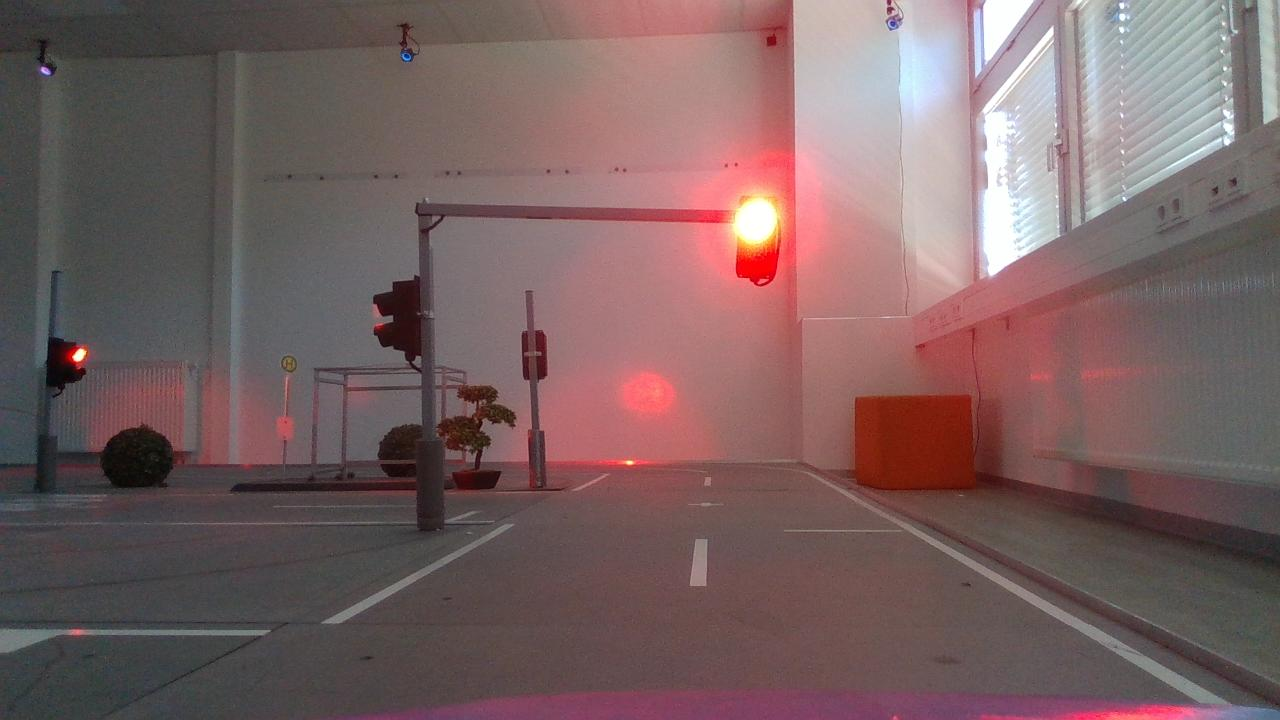traffic_light_red: (725, 184, 788, 296)
